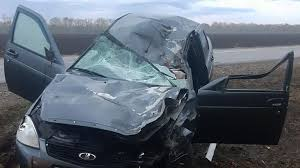car: (30, 12, 267, 163)
